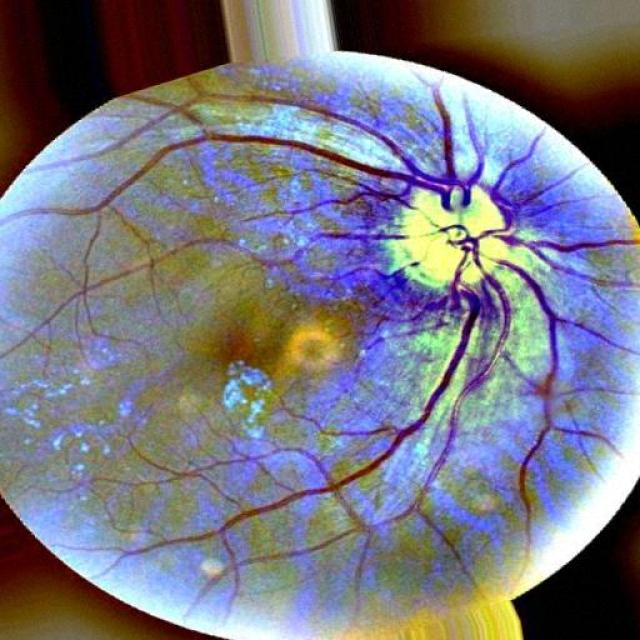Macula: (285, 325, 342, 365)
Nerves: (12, 100, 639, 535), (495, 258, 566, 526)
Optic Disk: (384, 188, 524, 290)
